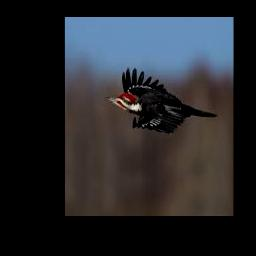Woodpecker: (104, 67, 217, 134)
